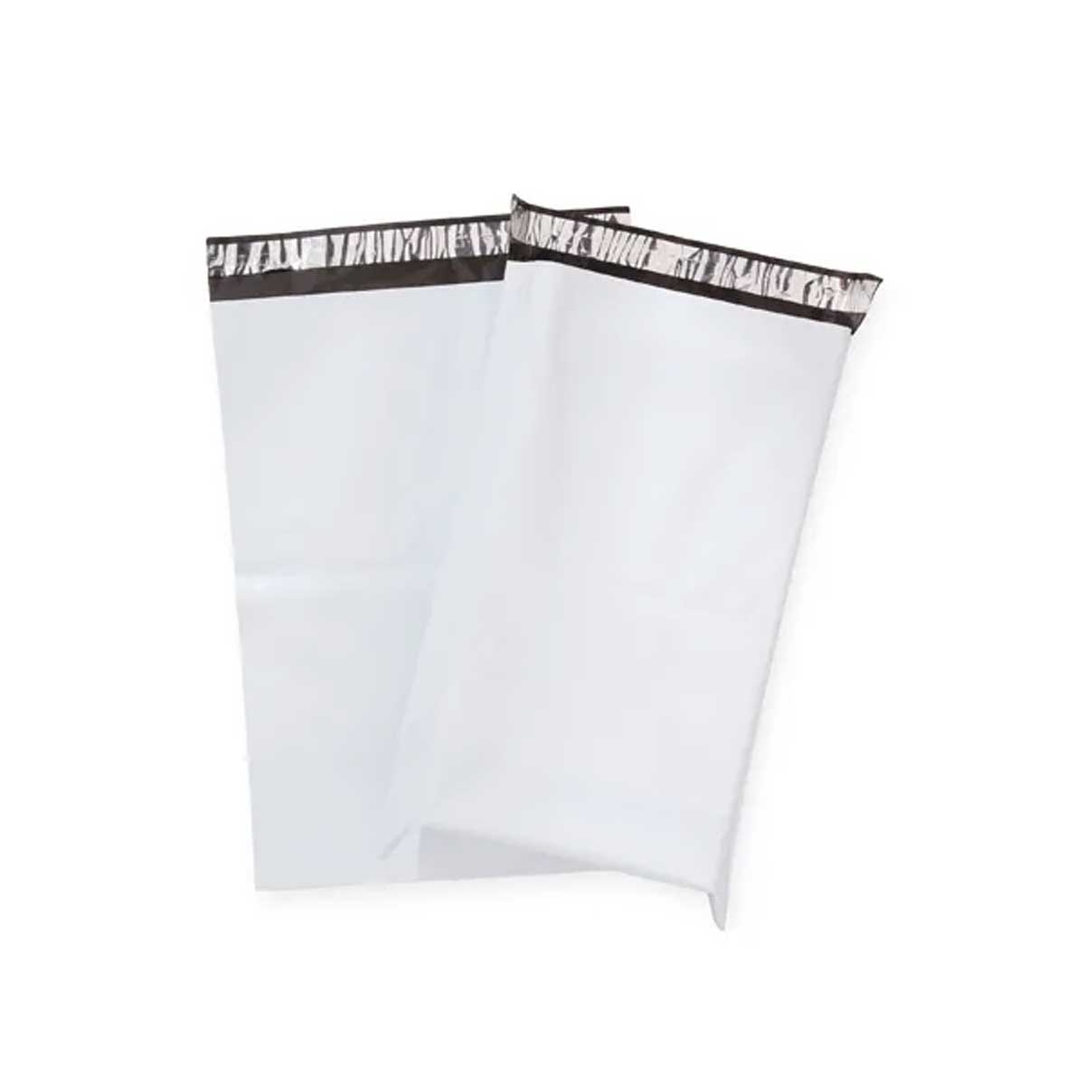Parcel: (206, 196, 880, 927)
